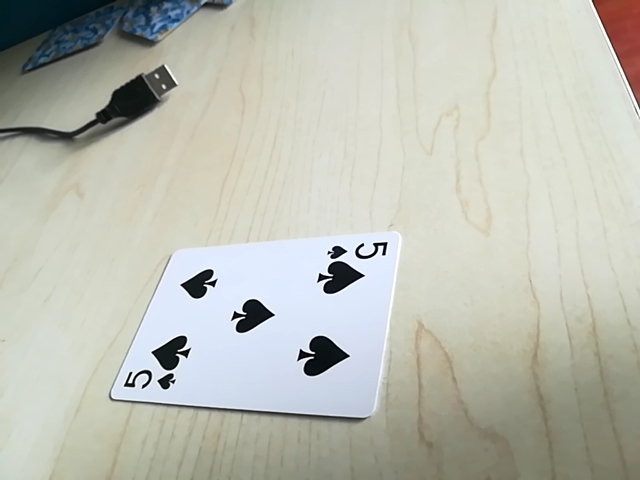ht 5: (110, 364, 182, 399), (324, 234, 393, 264)
